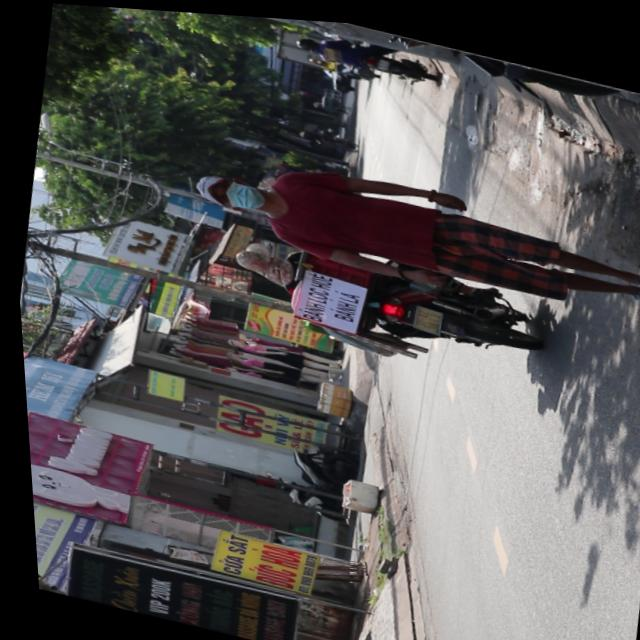licenseplate: (216, 226, 545, 387)
motorcyclist: (227, 235, 290, 283)
nohelmet: (406, 299, 437, 329)
